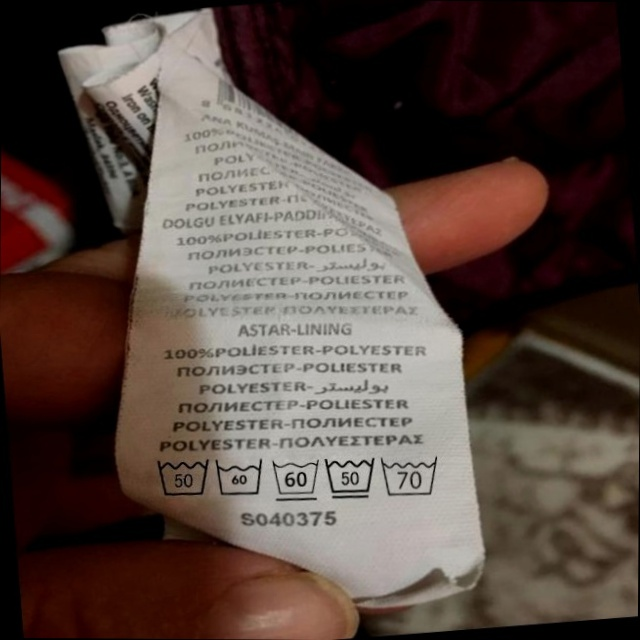50C: (149, 448, 216, 504), (321, 451, 381, 505)
60C: (269, 452, 326, 505), (212, 452, 270, 503)
70C: (379, 450, 447, 501)
